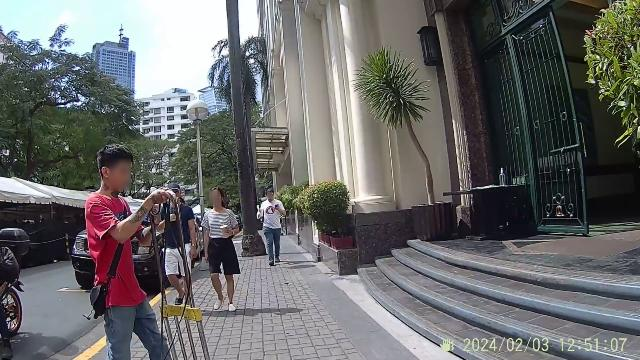lamp_post: (180, 97, 212, 236)
potted_plant: (295, 184, 355, 252)
tree: (220, 0, 268, 258)
